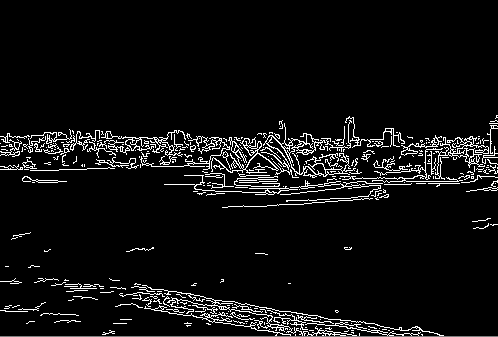opera house: (173, 119, 316, 191)
